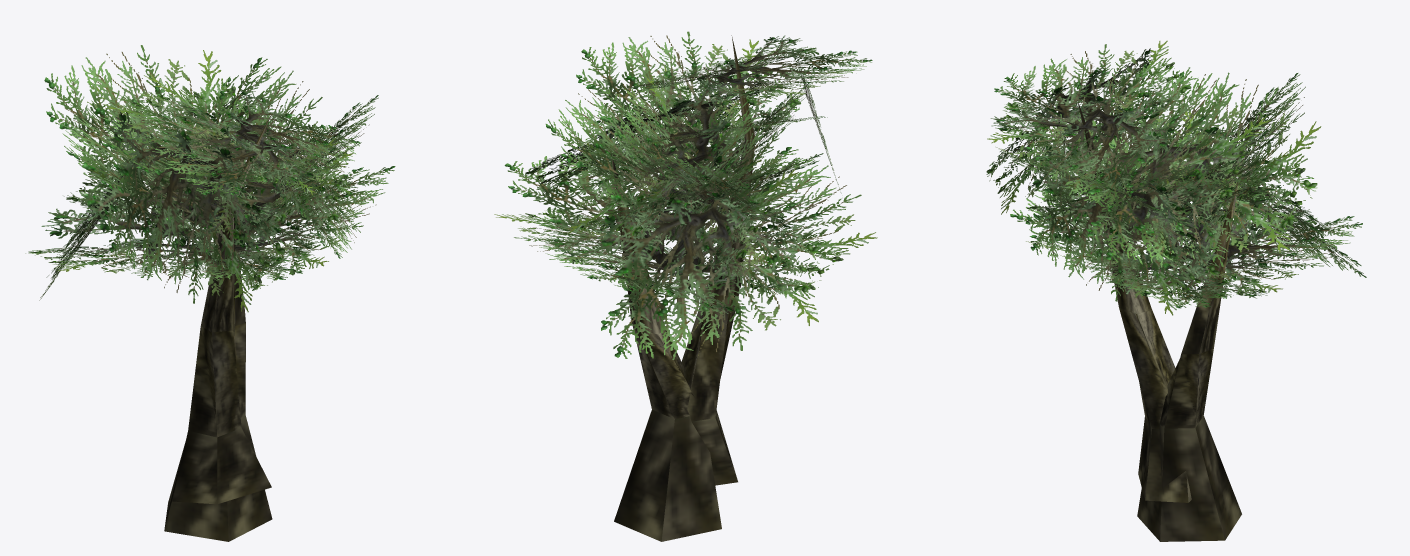
File: tree_olive_03.glb
3 renders of one model, left to right at view 1: azimuth 30°, elevation 25°; view 2: azimuth 150°, elevation 25°; view 3: azimuth 270°, elevation 25°, orthographic. The views are drawn at different scales.
Parts seen in each view (by area): view 1: tree_olive_03; view 2: tree_olive_03; view 3: tree_olive_03.
Boxes of the visible parts, left/top/right/bottom form: tree_olive_03: left=25, top=45, right=395, bottom=541; tree_olive_03: left=494, top=31, right=877, bottom=541; tree_olive_03: left=986, top=40, right=1366, bottom=541.
Bounding box in the file's own units: 14.53 × 15.3 × 13.82.
Materials: 1 (1 with a texture image).
